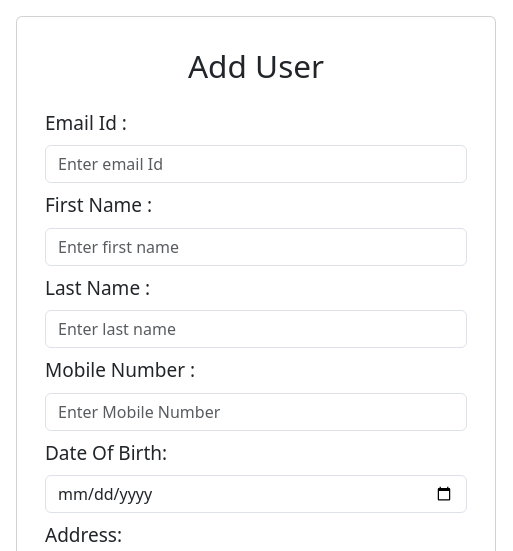
Test: Validate the Email
This screenshot has width=513, height=551.
Type "anu@gmai" into the field with placeholder "Enter email Id".
click(256, 164); type("anu@gmai")  # box [45,145,467,183]
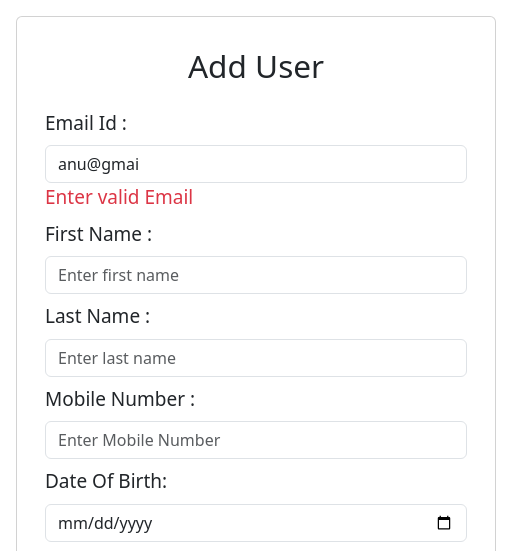
Now the text "Enter valid Email" is shown, box [45,184,193,210]
